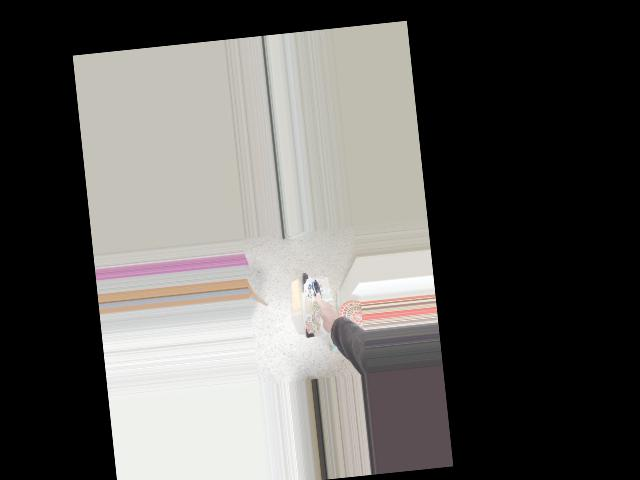cheese: (270, 267, 342, 348)
